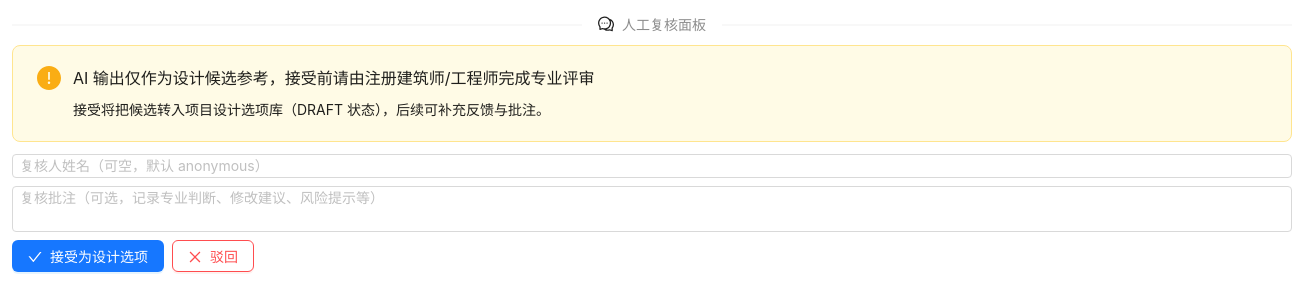
Test: CandidateReviewPanel › 接受成功后应显示成功结果与查看设计选项库按钮
Step 1. Click the button "接受为设计选项" → (88, 256), box x1=12 y1=240 x2=164 y2=272
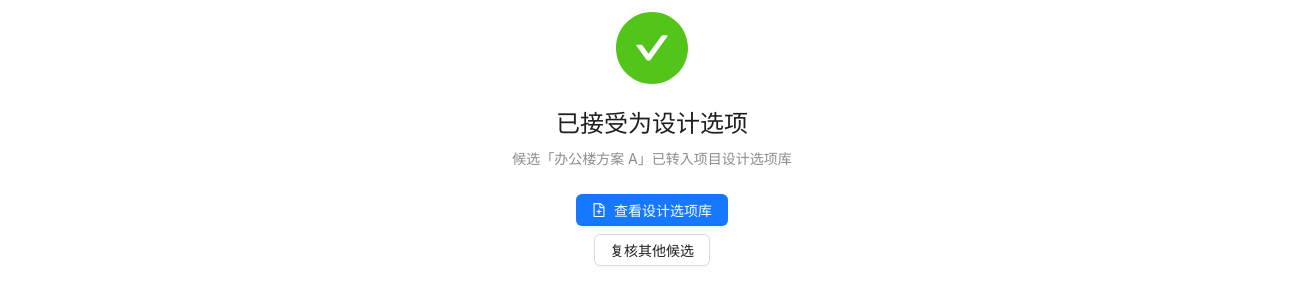
expect the text "已接受为设计选项" is shown: met, box x1=556 y1=109 x2=748 y2=138
expect the button "查看设计选项库" is shown: met, box x1=576 y1=194 x2=728 y2=226
